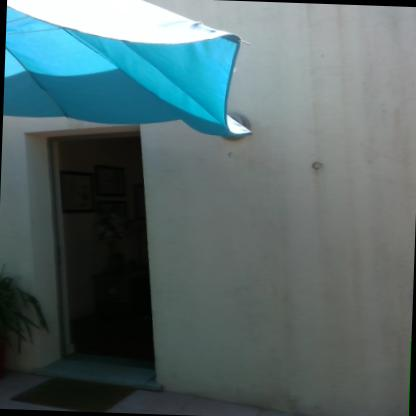open: (12, 116, 171, 398)
